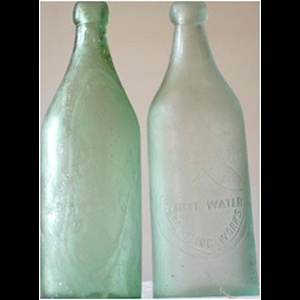emptybottle: (146, 1, 257, 299), (39, 1, 140, 299)
